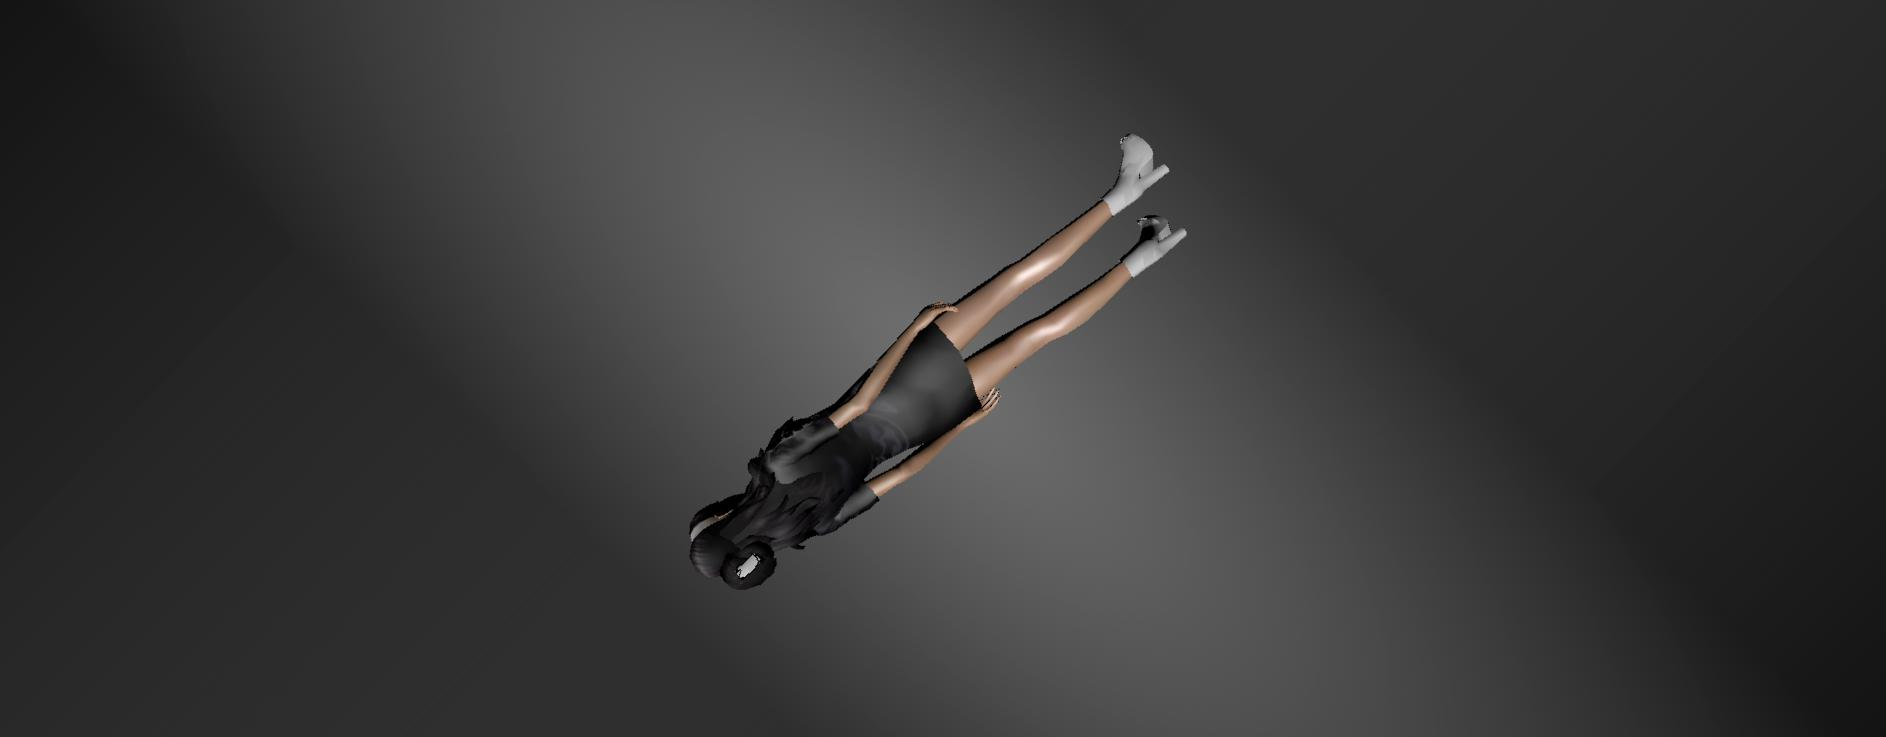clip: (729, 560, 773, 586)
